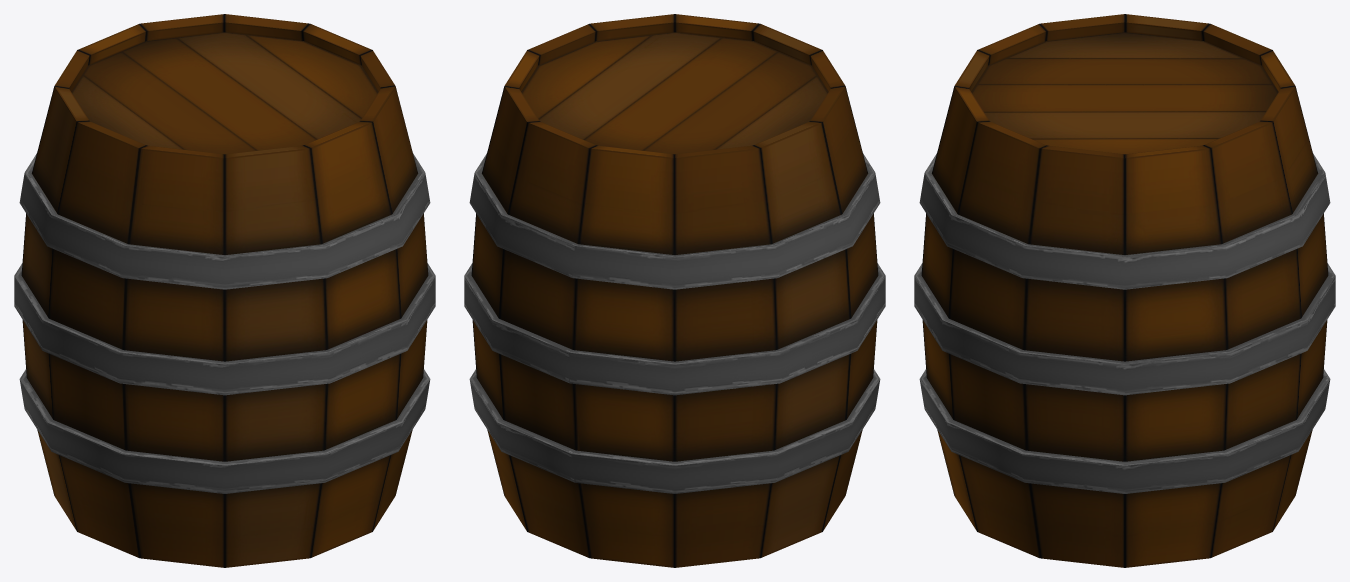
File: Barrel Textured.glb
3 views of the same model, side by side, from view 1: azimuth 30°, elevation 25°; view 2: azimuth 150°, elevation 25°; view 3: azimuth 270°, elevation 25° (orthographic).
Parts seen in each view (by area): view 1: pCylinder3; view 2: pCylinder3; view 3: pCylinder3.
Part boxes in pixels (x1,y1,x2,y2): pCylinder3: (14,14,435,567); pCylinder3: (464,14,885,567); pCylinder3: (914,14,1335,567).
Bounding box in the file's own units: 29.91 × 32.09 × 29.91.
1 material, 1 textured.
